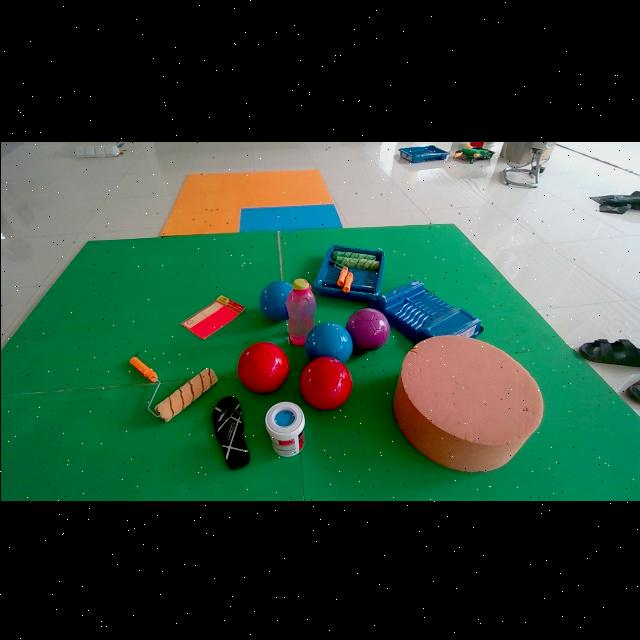B: (304, 321, 353, 361), (258, 279, 291, 320)
P: (345, 306, 389, 351)
R: (299, 355, 351, 409)
